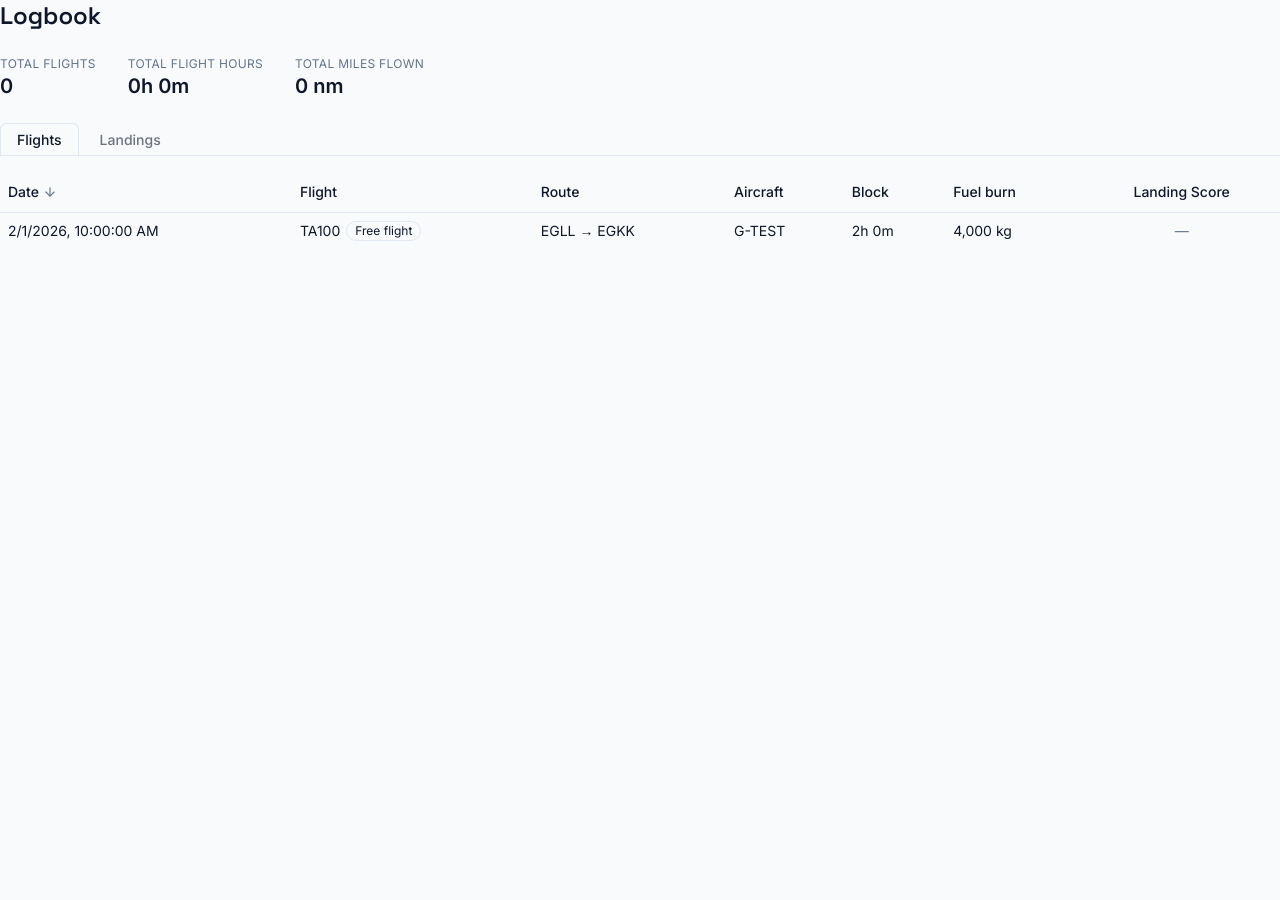
Test: FlightDetail › "Add to fleet" (free-flight-tracking.md follow-up) › re-fetches the open flight after linking, so the detail drops "Add to fleet" (regression, 2026-10-01)
The image size is (1280, 900).
Click the text "TA100" at (361, 230), box [300,220,421,240]
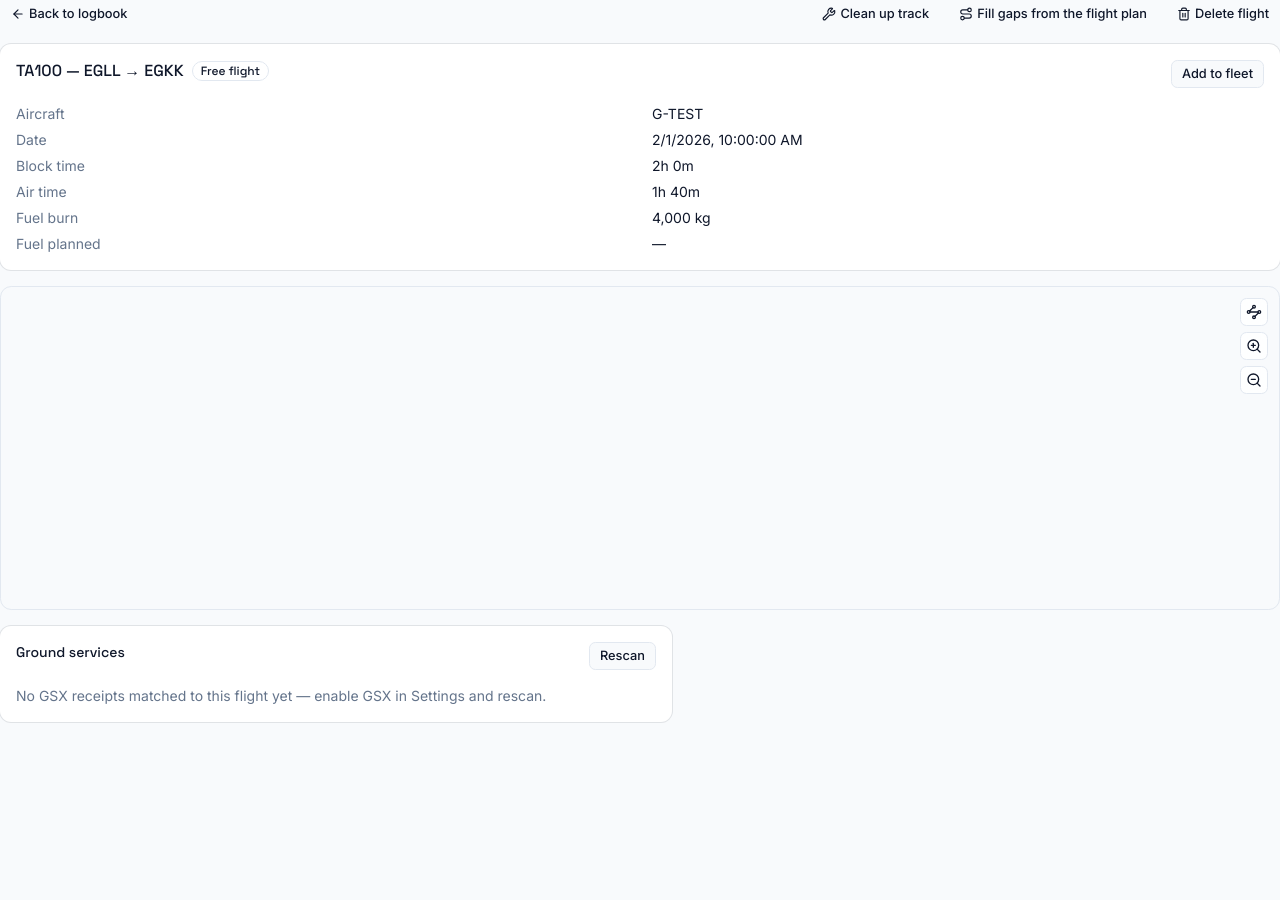
Click the button "Add to fleet" at (1217, 74), box [1171,60,1264,88]
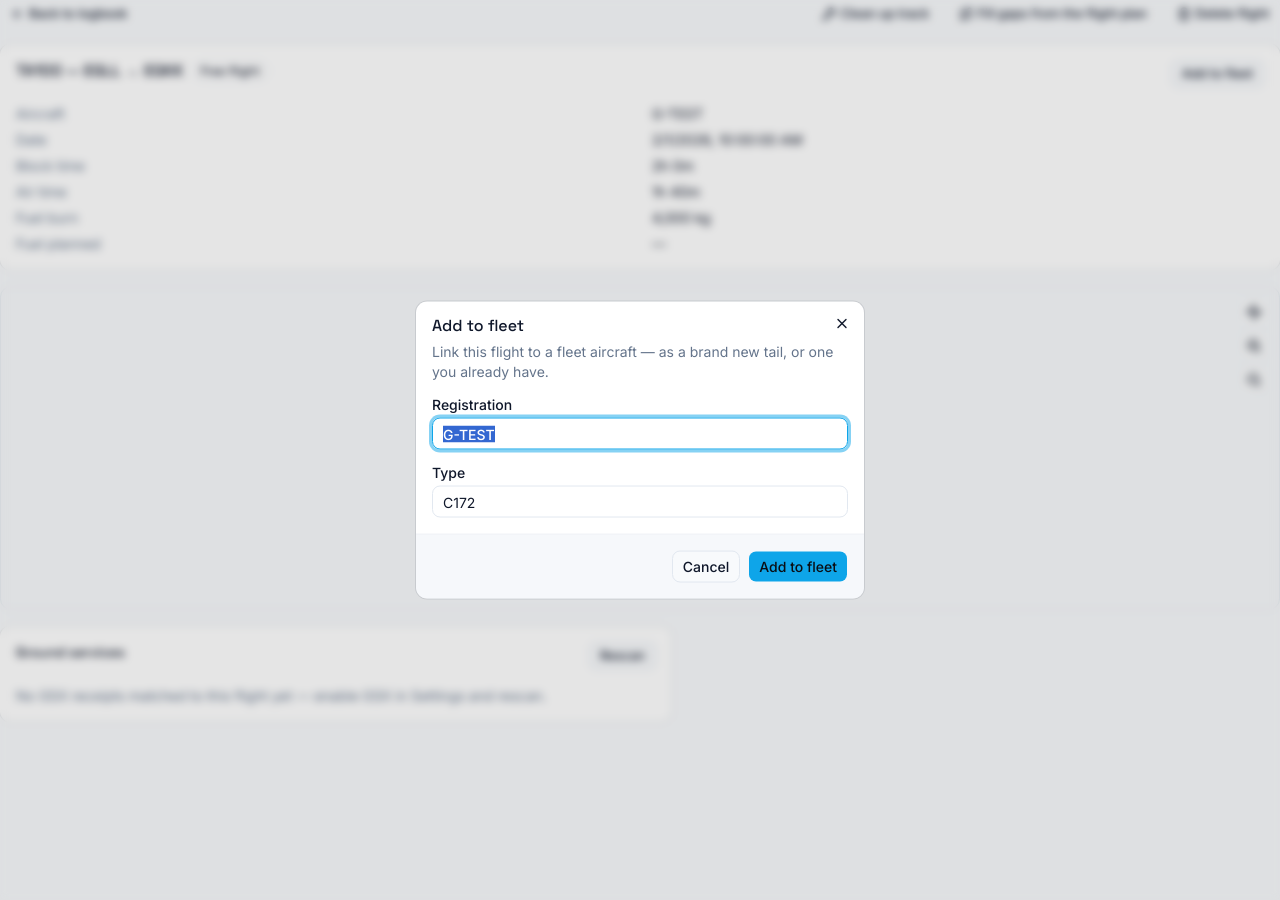
Click the button "Add to fleet" at (798, 566), box [748,550,848,582]
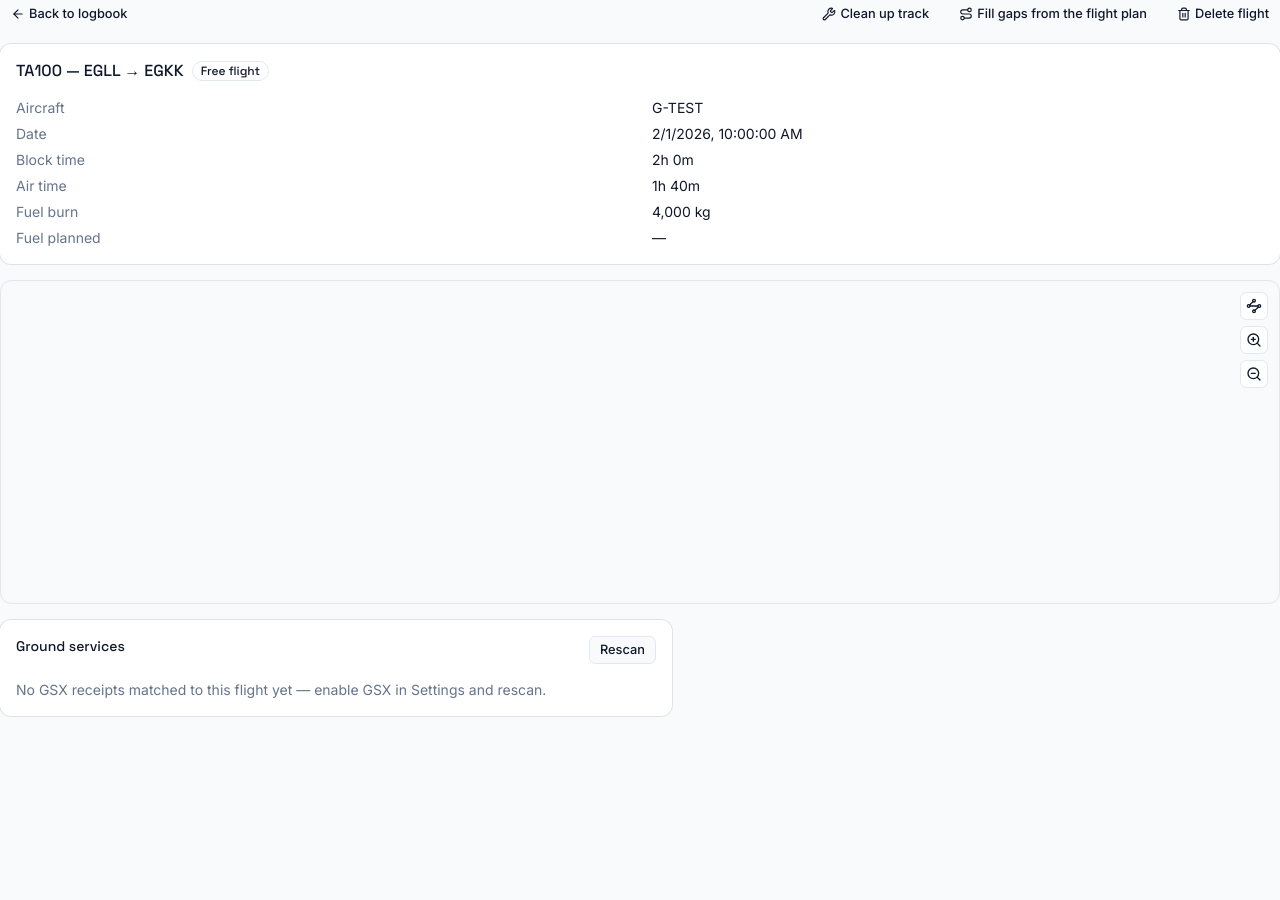
Expected: the button "Add to fleet" is gone
